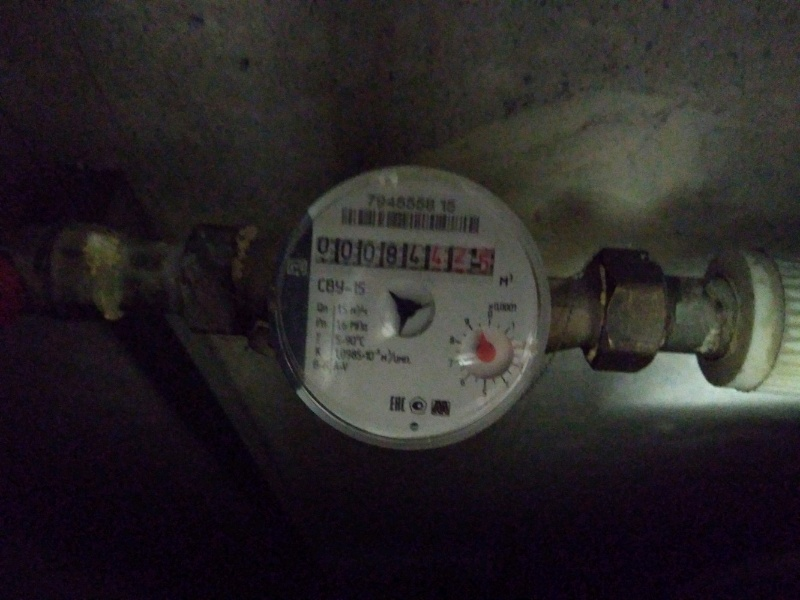meter: (312, 234, 509, 279)
